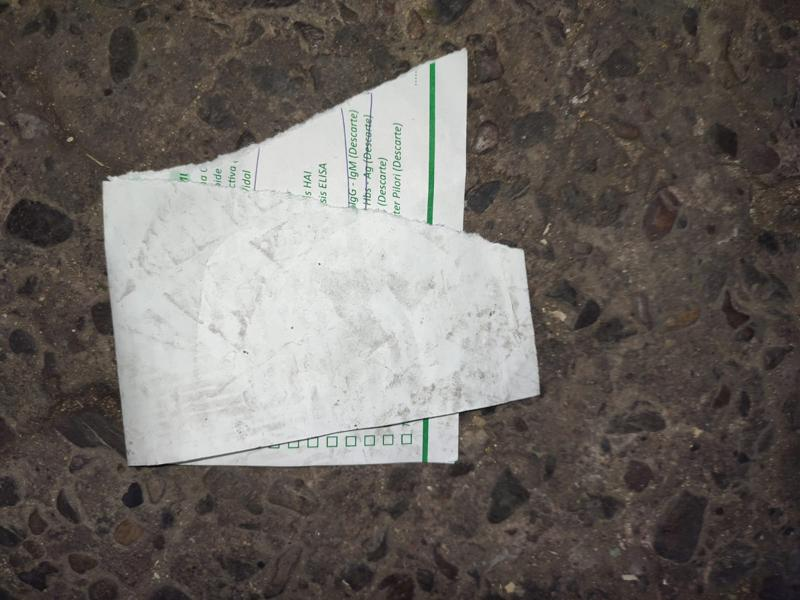papel: (102, 51, 542, 470)
